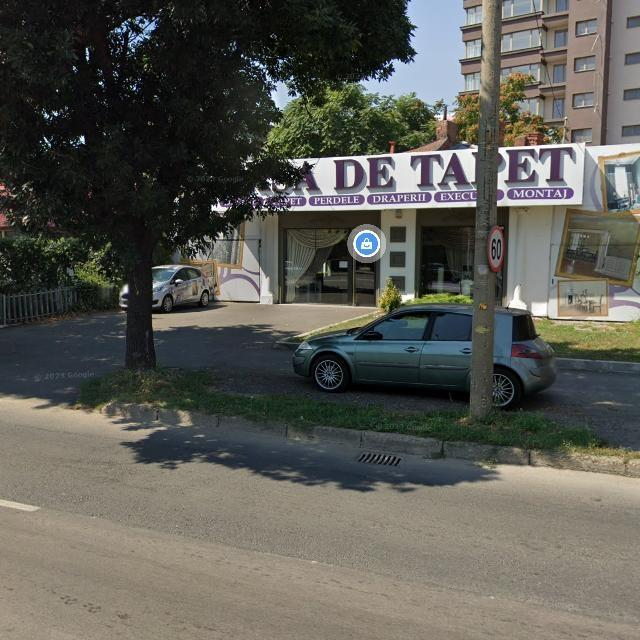forb_speed_over_60: (487, 226, 504, 272)
